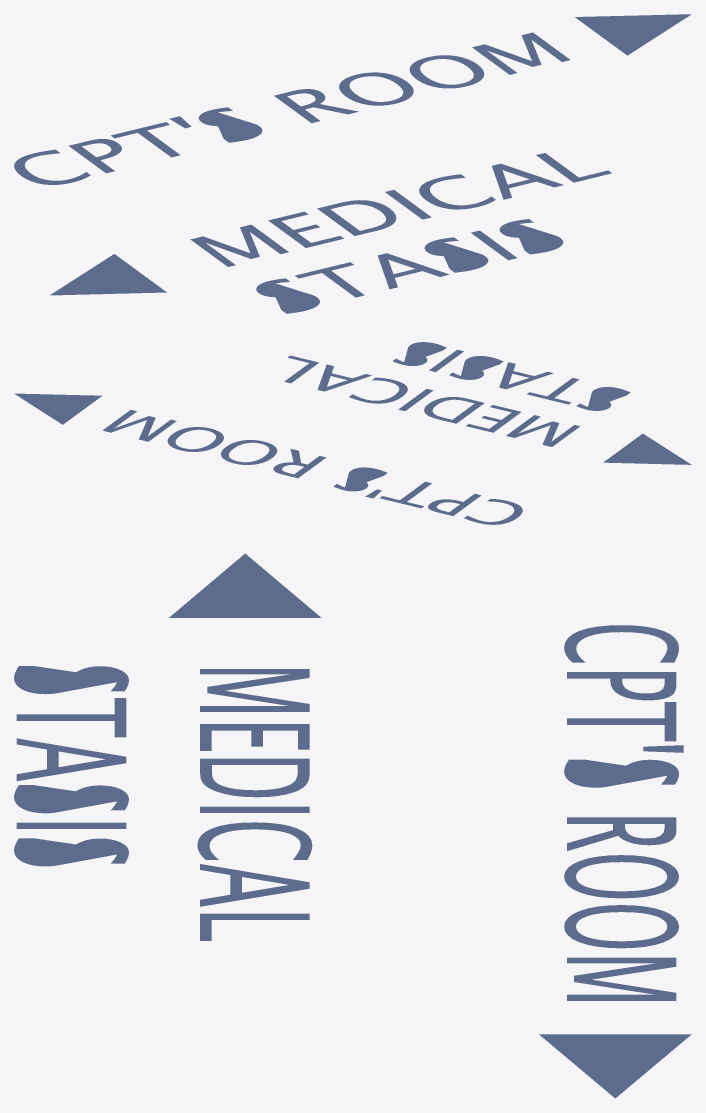
The model's file is Captains_Medical.fbx.
3 views of the same model, one above another, from view 1: azimuth 30°, elevation 25°; view 2: azimuth 150°, elevation 25°; view 3: azimuth 270°, elevation 25° (orthographic). The views are drawn at different scales.
Visible parts, largest first — view 1: Captains_Medical; view 2: Captains_Medical; view 3: Captains_Medical.
Boxes of the visible parts, box(x1,y1,x2,y2) form: Captains_Medical: box(14, 14, 691, 313); Captains_Medical: box(14, 342, 691, 524); Captains_Medical: box(14, 553, 691, 1098).
Size of the model in its own units: 1211 by 0 by 637.
